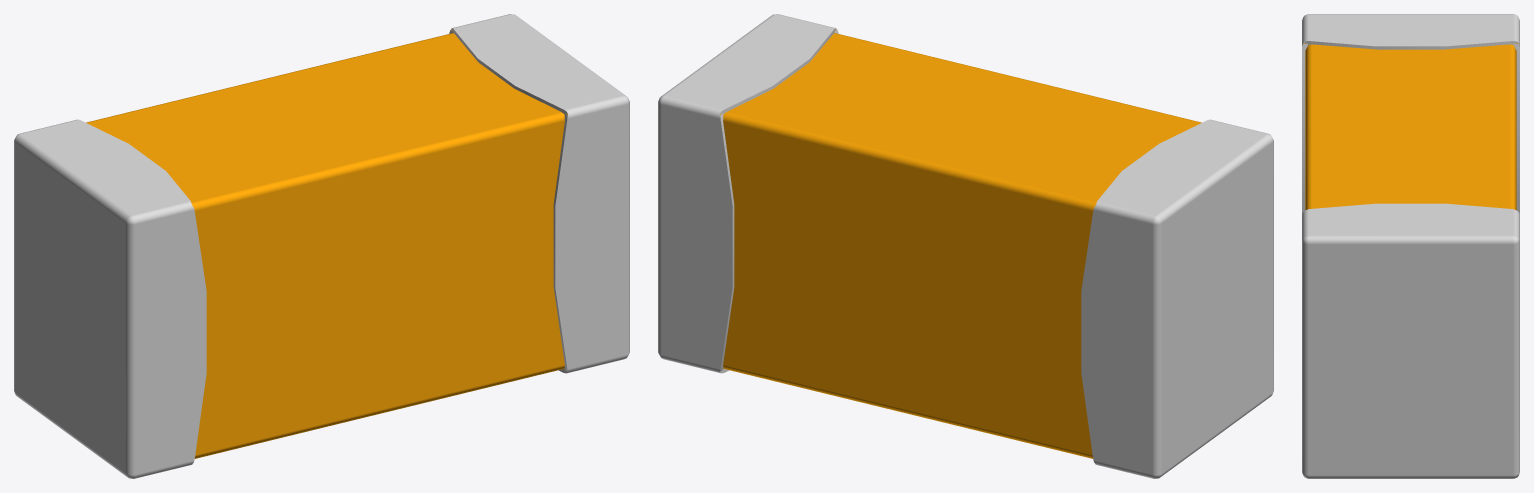
Rendered from Samsung_Electro_Mechanics_CL31A226KAHNNNE.3dmodel.glb.
3 views of the same model, side by side, from view 1: azimuth 30°, elevation 25°; view 2: azimuth 150°, elevation 25°; view 3: azimuth 270°, elevation 25° (orthographic). The views are drawn at different scales.
Parts seen in each view (by area): view 1: =>[0:1:1:1]; view 2: =>[0:1:1:1]; view 3: =>[0:1:1:1].
Boxes of the visible parts, x1,y1,x2,y2 form: =>[0:1:1:1]: (14,14,629,478); =>[0:1:1:1]: (658,14,1273,478); =>[0:1:1:1]: (1302,14,1519,478).
Bounding box in the file's own units: 3.2 × 1.6 × 1.3.
